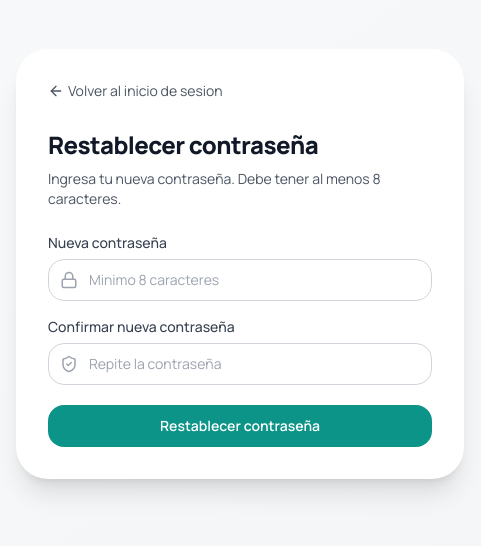
it: ResetPassword › muestra el error del backend cuando el token es invalido
The image size is (481, 546).
In the password field labelled "Nueva contraseña": (240, 280) [48, 259, 432, 301], type "newPassword123"
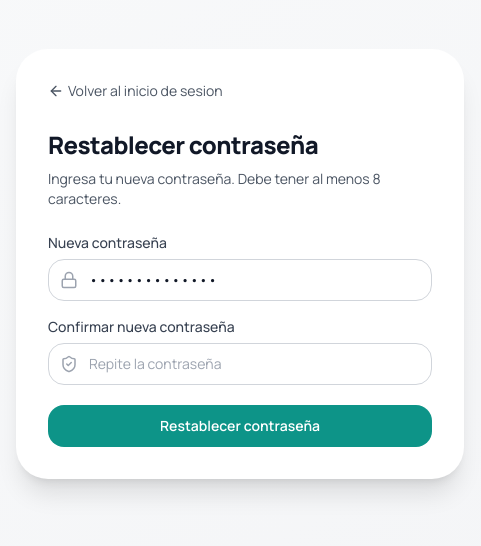
In the password field labelled "Confirmar nueva contraseña": (240, 364) [48, 343, 432, 385], type "newPassword123"
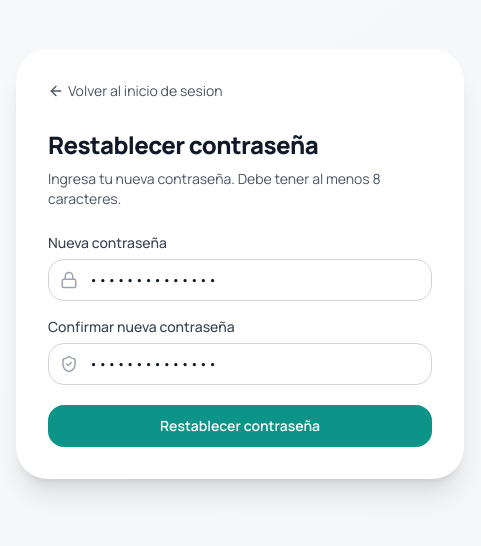
Click the button "Restablecer contraseña": (240, 426) [48, 405, 432, 447]
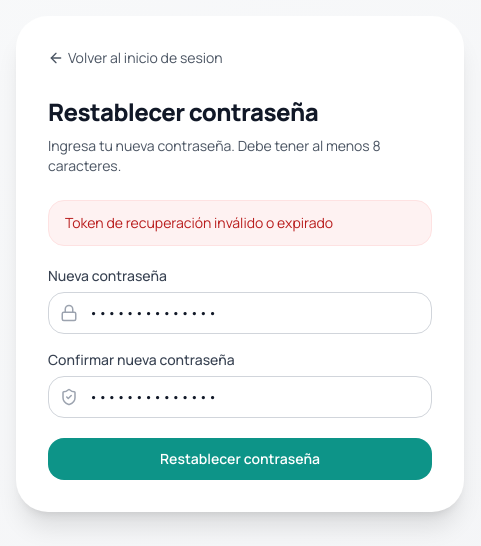
expect the message reads "Token de recuperación inválido o expirado": met, box [65, 213, 333, 232]
